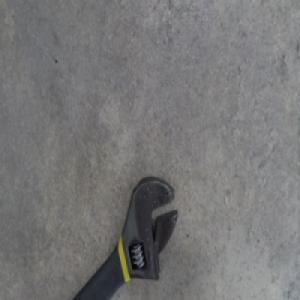AdjustableWrench: (70, 173, 177, 298)
